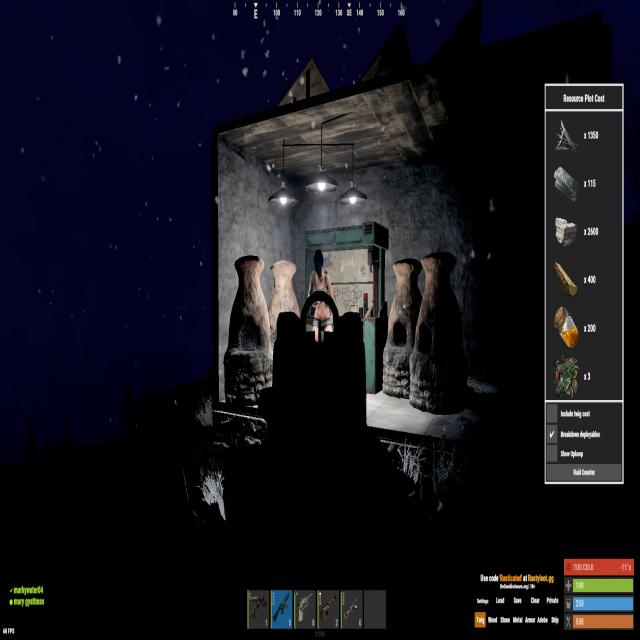Player: (306, 250, 334, 344)
